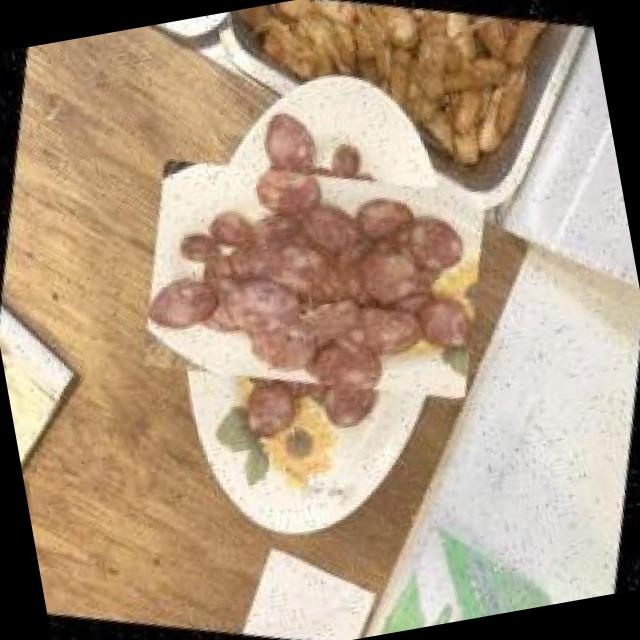chinese_sausage: (124, 87, 504, 469)
